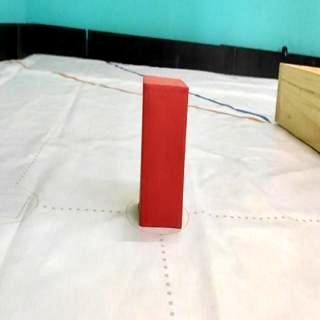redbox: (140, 74, 189, 230)
